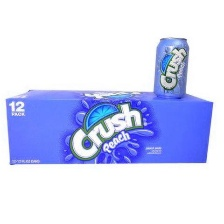can: (148, 32, 195, 102)
